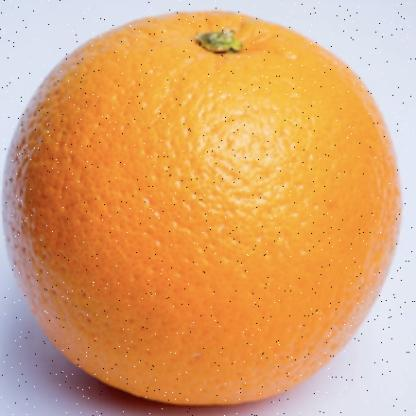fresh: (6, 11, 402, 409)
